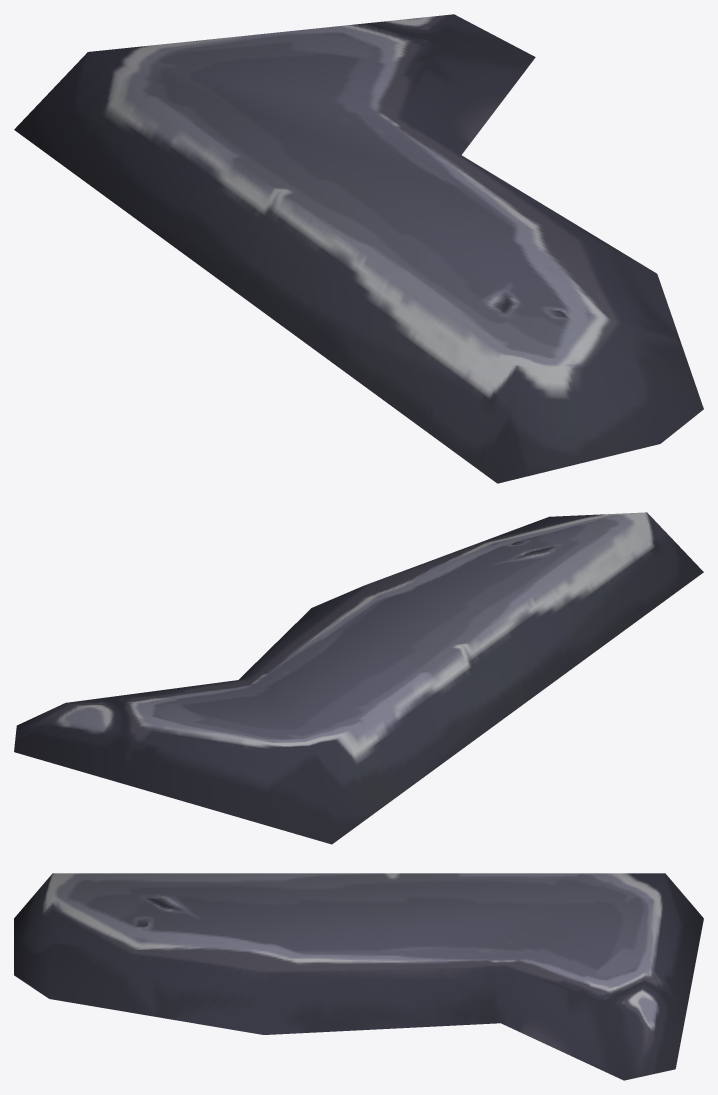
Rendered from MOD_Floor_01_O_singlestone_broken_8.fbx.
The picture shows the model from 3 angles, top to bottom: view 1: azimuth 30°, elevation 25°; view 2: azimuth 150°, elevation 25°; view 3: azimuth 270°, elevation 25°; orthographic projection. The views are drawn at different scales.
Parts seen in each view (by area): view 1: MOD_Floor_01_O_singlestone_broken_8; view 2: MOD_Floor_01_O_singlestone_broken_8; view 3: MOD_Floor_01_O_singlestone_broken_8.
Boxes of the visible parts, bbox=[...] form: MOD_Floor_01_O_singlestone_broken_8: bbox=[14, 14, 703, 483]; MOD_Floor_01_O_singlestone_broken_8: bbox=[14, 512, 703, 844]; MOD_Floor_01_O_singlestone_broken_8: bbox=[14, 873, 703, 1080].
Bounding box in the file's own units: 55.61 × 9.83 × 100.
